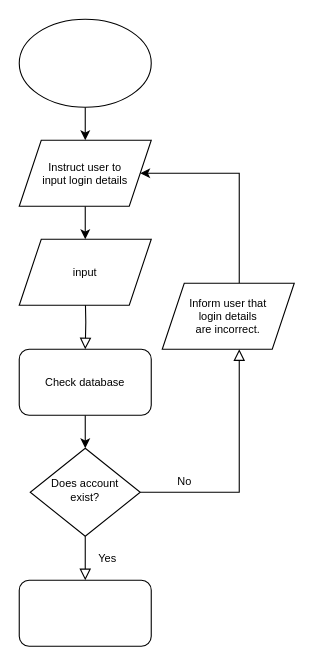
Image size: 314x666. Some labels were removed from this diagram. The centre of each missing label's shape, as x and y in pixels:
"Get account" goes at [84,612].
"Start" goes at [84,62].
